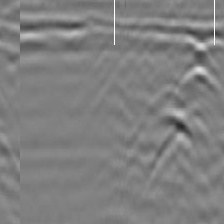Utility: (152, 111, 203, 176), (178, 64, 223, 98)
